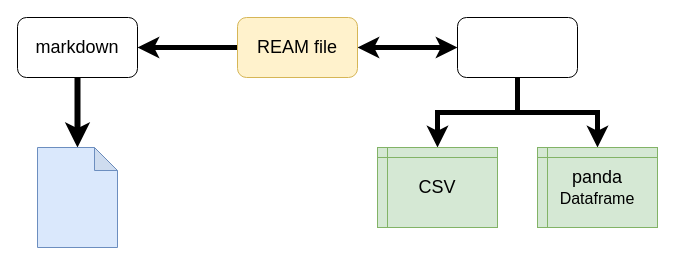
The diagram is 675 pixels wide and 265 high, and some of its shapes have lost their labels. The centre of each missing label's shape, as x and y in pixels:
"dict/JSON" belongs at point 517,47.
"pdf doc html" belongs at point 77,197.
